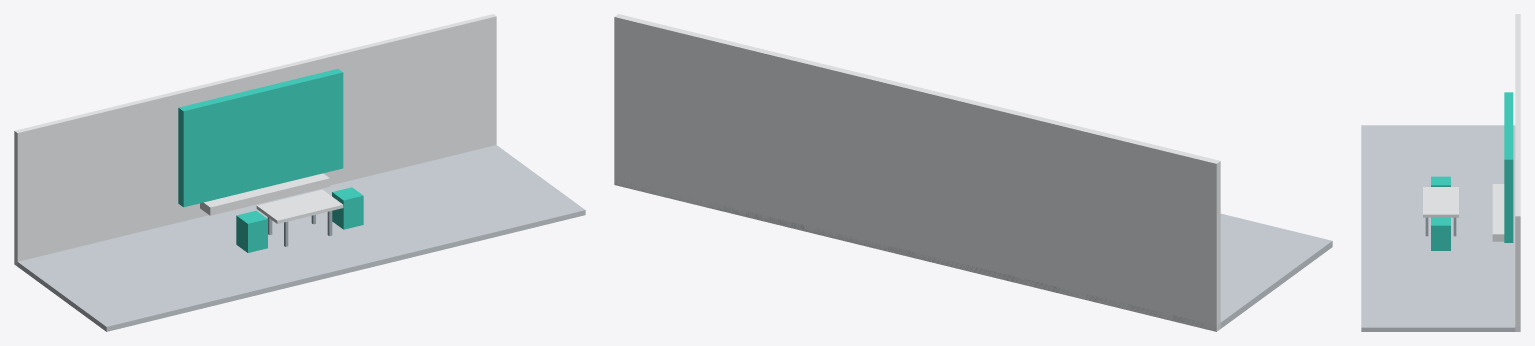
3 views of the same model, side by side, from view 1: azimuth 30°, elevation 25°; view 2: azimuth 150°, elevation 25°; view 3: azimuth 270°, elevation 25° (orthographic). The views are drawn at different scales.
Visible parts, largest first — view 1: Exhibition Booth Concept; view 2: Exhibition Booth Concept; view 3: Exhibition Booth Concept.
Boxes of the visible parts, left/top/right/bottom form: Exhibition Booth Concept: left=14, top=14, right=585, bottom=331; Exhibition Booth Concept: left=614, top=14, right=1332, bottom=331; Exhibition Booth Concept: left=1361, top=14, right=1520, bottom=331.
Bounding box in the file's own units: 12 × 3.2 × 4.
